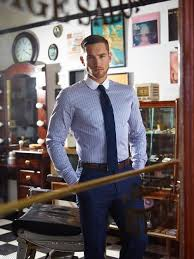F_belt: (71, 156, 143, 179)
F_dress pants: (71, 166, 151, 256)
F_tie: (89, 80, 125, 181)
